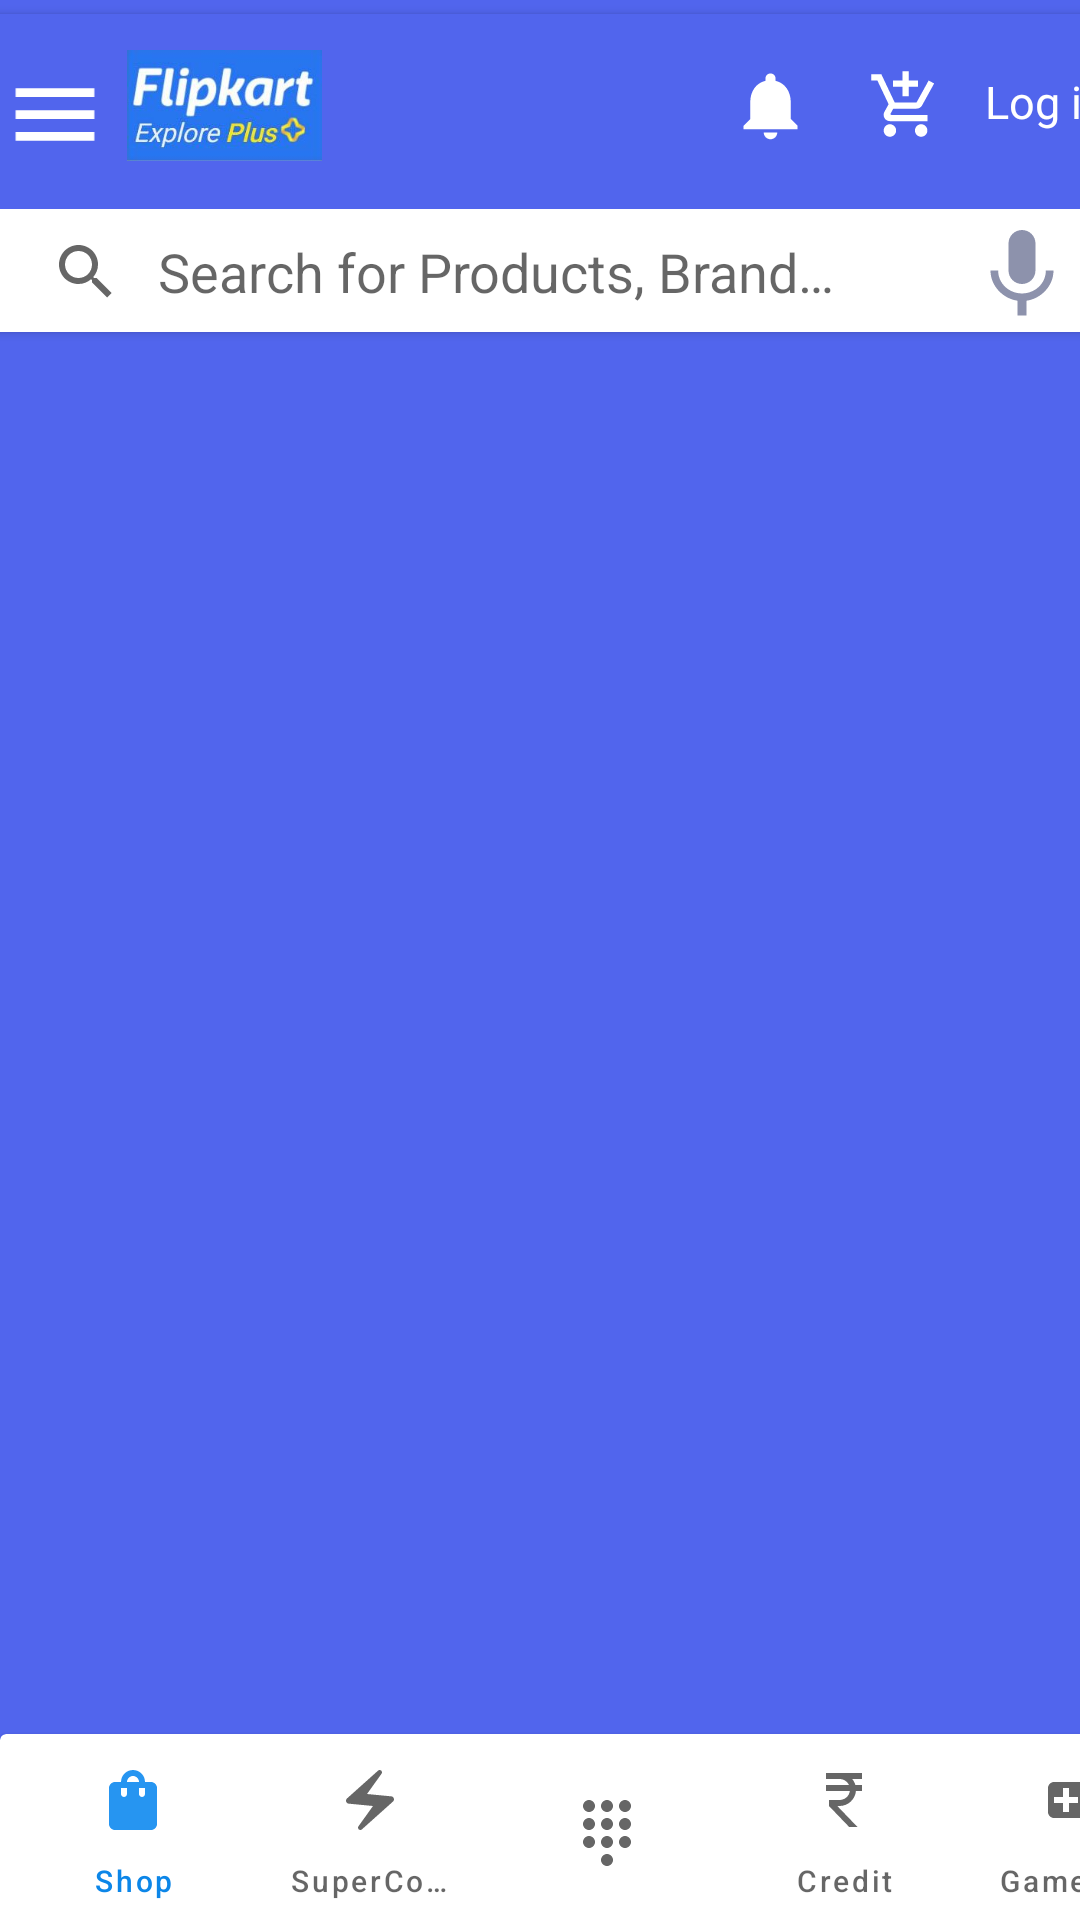

Locate icon controls on the screen. Image size 1080px×1920px, boxes as region(x1, y1, x2, y2).
add shopping cart: region(871, 71, 934, 137)
menu: region(15, 88, 95, 141)
notifications: region(743, 73, 798, 140)
